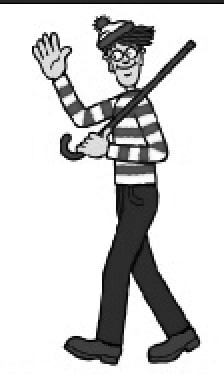Waldo: (26, 10, 207, 365)
